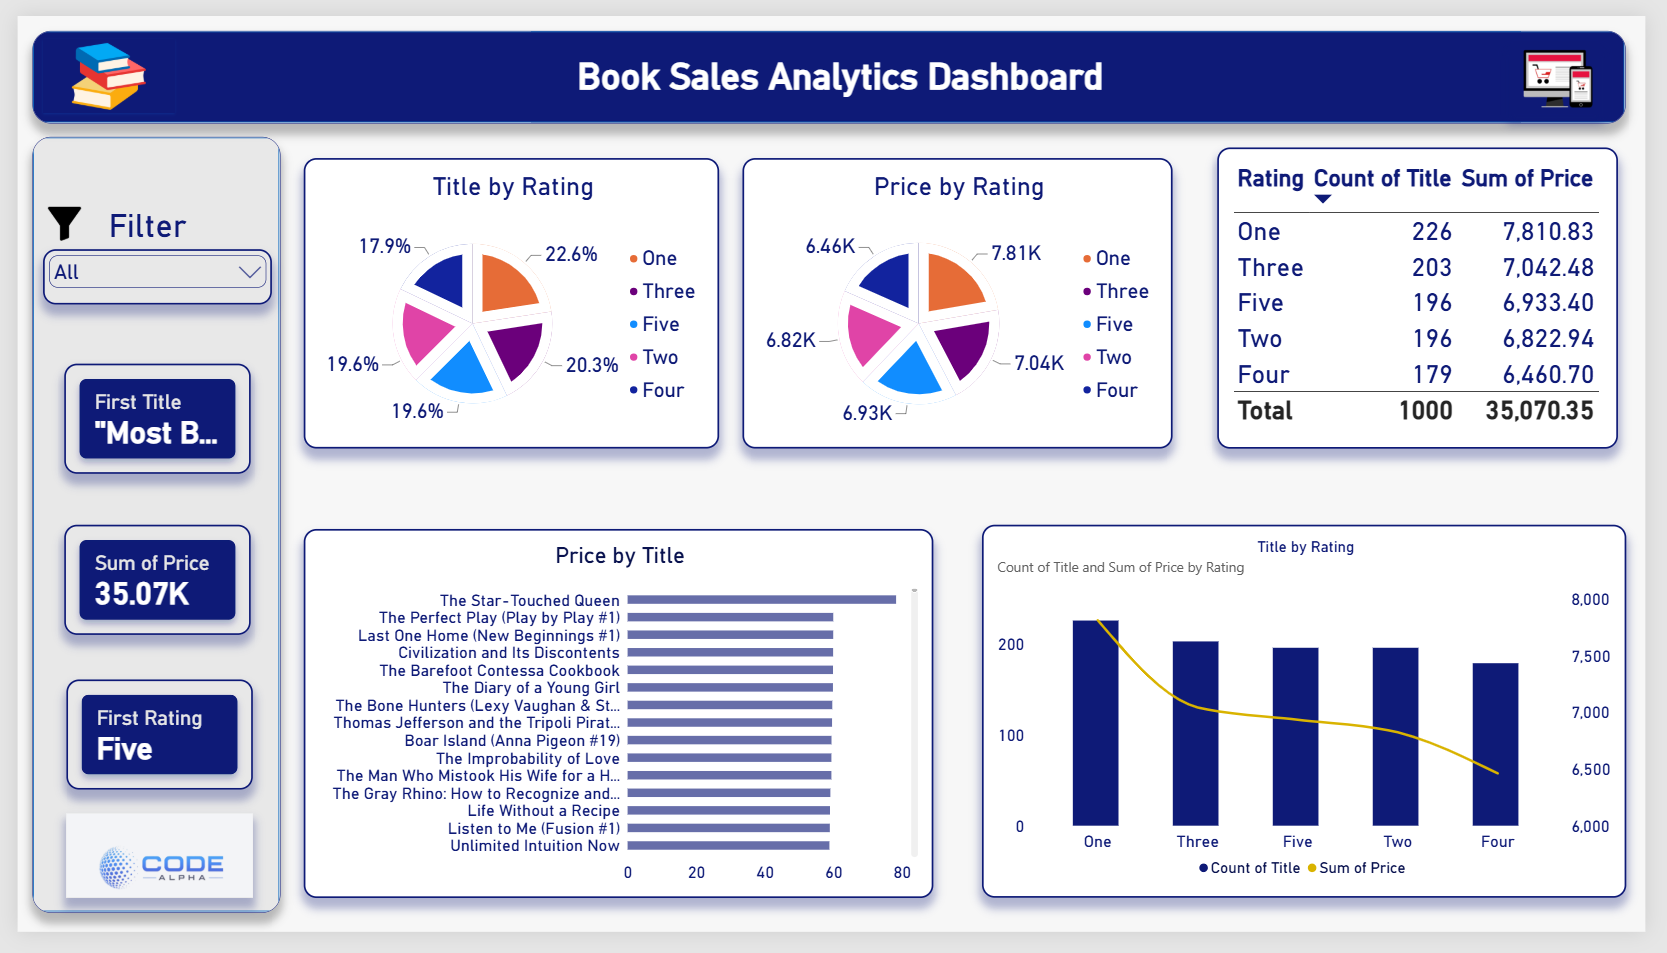

What the dashboard file says about the page in this screenshot:
{"tool":"powerbi","page":{"name":"Page 2","canvas":[1920,1080],"ordinal":0},"visuals":[{"type":"shape","box":[16.3,16.3,1879.1,109.3],"z":0},{"type":"shape","box":[17.5,142.5,292.5,915],"z":1000},{"type":"image","box":[57.5,940,220,100],"z":2000},{"type":"textbox","box":[582.5,45,985,70],"z":3000},{"type":"image","box":[30,27.5,155,87.5],"z":4000},{"type":"pieChart","title":"Price by Rating","fields":{"Category":["books_dataset.Rating"],"Y":["Sum(books_dataset.Price)"]},"box":[855,167.5,507.5,342.5],"z":5000},{"type":"pieChart","title":"Title by Rating","fields":{"Category":["books_dataset.Rating"],"Y":["CountNonNull(books_dataset.Title)"]},"box":[337.5,167.5,490,342.5],"z":6000},{"type":"cardVisual","title":"Price by Rating","fields":{"Data":["Min(books_dataset.Rating)"]},"box":[57.5,782.5,220,130],"z":7000},{"type":"lineStackedColumnComboChart","title":"Title by Rating","fields":{"Category":["books_dataset.Rating"],"Y":["CountNonNull(books_dataset.Title)"],"Y2":["Sum(books_dataset.Price)"]},"box":[1137.5,600,760,440],"z":8000},{"type":"barChart","title":"Price by Title","fields":{"Category":["books_dataset.Title"],"Y":["Sum(books_dataset.Price)"]},"box":[337.5,605,742.5,435],"z":9000},{"type":"tableEx","title":"Title by Rating","fields":{"Values":["books_dataset.Rating","CountNonNull(books_dataset.Title)","Sum(books_dataset.Price)"]},"box":[1415,155,472.5,355],"z":10000},{"type":"slicer","title":"Price by Rating","fields":{"Values":["books_dataset.Title"]},"box":[30,275,270,65],"z":11000},{"type":"image","box":[1760,32.5,107.5,82.5],"z":12000},{"type":"cardVisual","title":"Price by Rating","fields":{"Data":["Sum(books_dataset.Price)"]},"box":[55,600,220,130],"z":13000},{"type":"cardVisual","title":"Price by Rating","fields":{"Data":["Min(books_dataset.Title)"]},"box":[55,410,220,130],"z":14000},{"type":"image","box":[30,225.6,50,40],"z":14001},{"type":"textbox","box":[108,226,396,70],"z":14002}]}

Visuals, with their boxes in screenshot pixels (x1, y1, x2, y2), scaled from the page's 1920x1080 canvas onto the 1667x953 screenshot:
shape: box=[14, 14, 1646, 111]
shape: box=[15, 126, 269, 933]
image: box=[50, 829, 241, 918]
textbox: box=[506, 40, 1361, 101]
image: box=[26, 24, 161, 101]
"Price by Rating" pieChart: box=[742, 148, 1183, 450]
"Title by Rating" pieChart: box=[293, 148, 718, 450]
"Price by Rating" cardVisual: box=[50, 690, 241, 805]
"Title by Rating" lineStackedColumnComboChart: box=[988, 529, 1647, 918]
"Price by Title" barChart: box=[293, 534, 938, 918]
"Title by Rating" tableEx: box=[1229, 137, 1639, 450]
"Price by Rating" slicer: box=[26, 243, 260, 300]
image: box=[1528, 29, 1621, 101]
"Price by Rating" cardVisual: box=[48, 529, 239, 644]
"Price by Rating" cardVisual: box=[48, 362, 239, 476]
image: box=[26, 199, 69, 234]
textbox: box=[94, 199, 438, 261]
